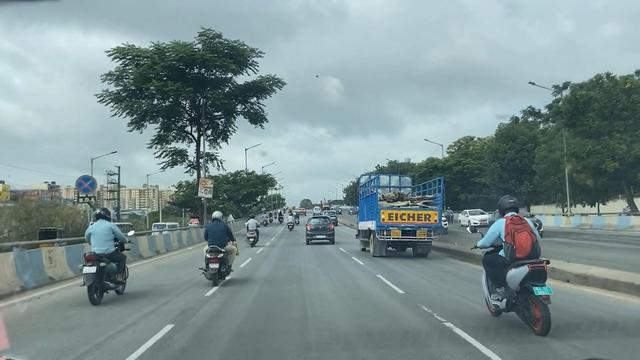HMV: (358, 173, 442, 255)
LMV: (469, 203, 555, 335), (81, 207, 132, 294), (204, 209, 232, 286), (306, 214, 333, 244), (243, 216, 261, 249)
